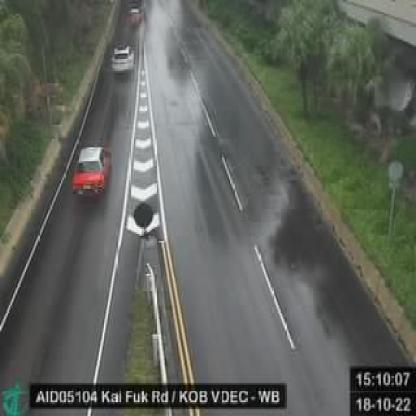Car: (72, 145, 113, 198), (111, 42, 135, 76)
